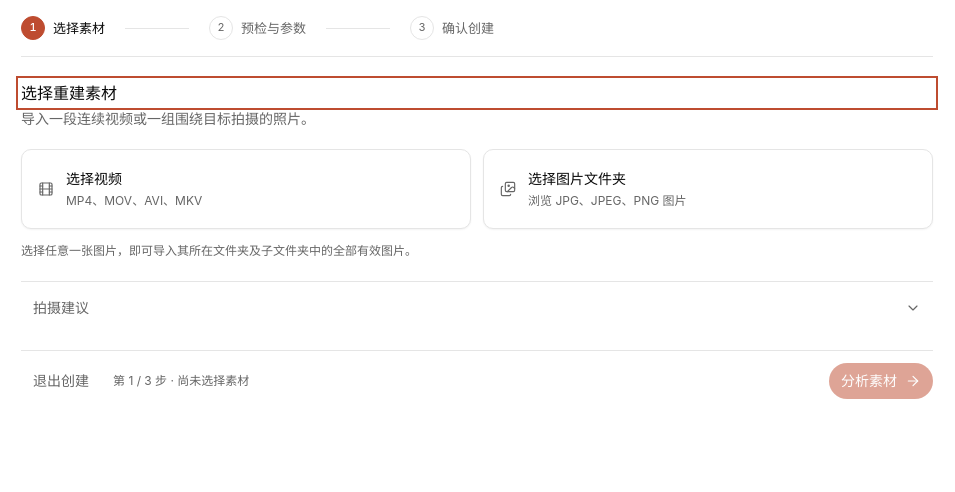
Test: NewProjectPage › shows real video metadata and Fast estimate after native selection
Click the button "选择视频 MP4、MOV、AVI、MKV". click: (94, 178)
box: [21,149,471,229]
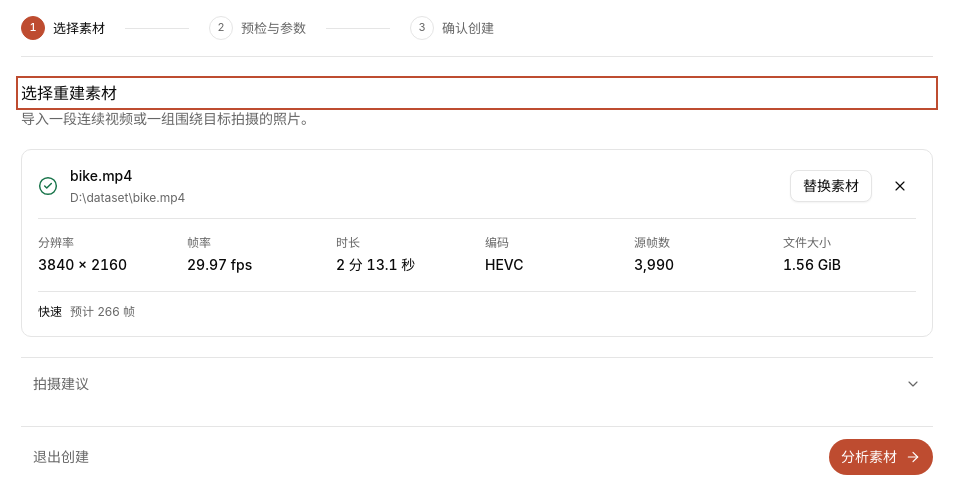
Now the text "3840 × 2160" is shown, box [38,256,127,273]
Now the text "29.97 fps" is shown, box [187,256,252,273]
Now the text "2 分 13.1 秒" is shown, box [336,256,415,273]
